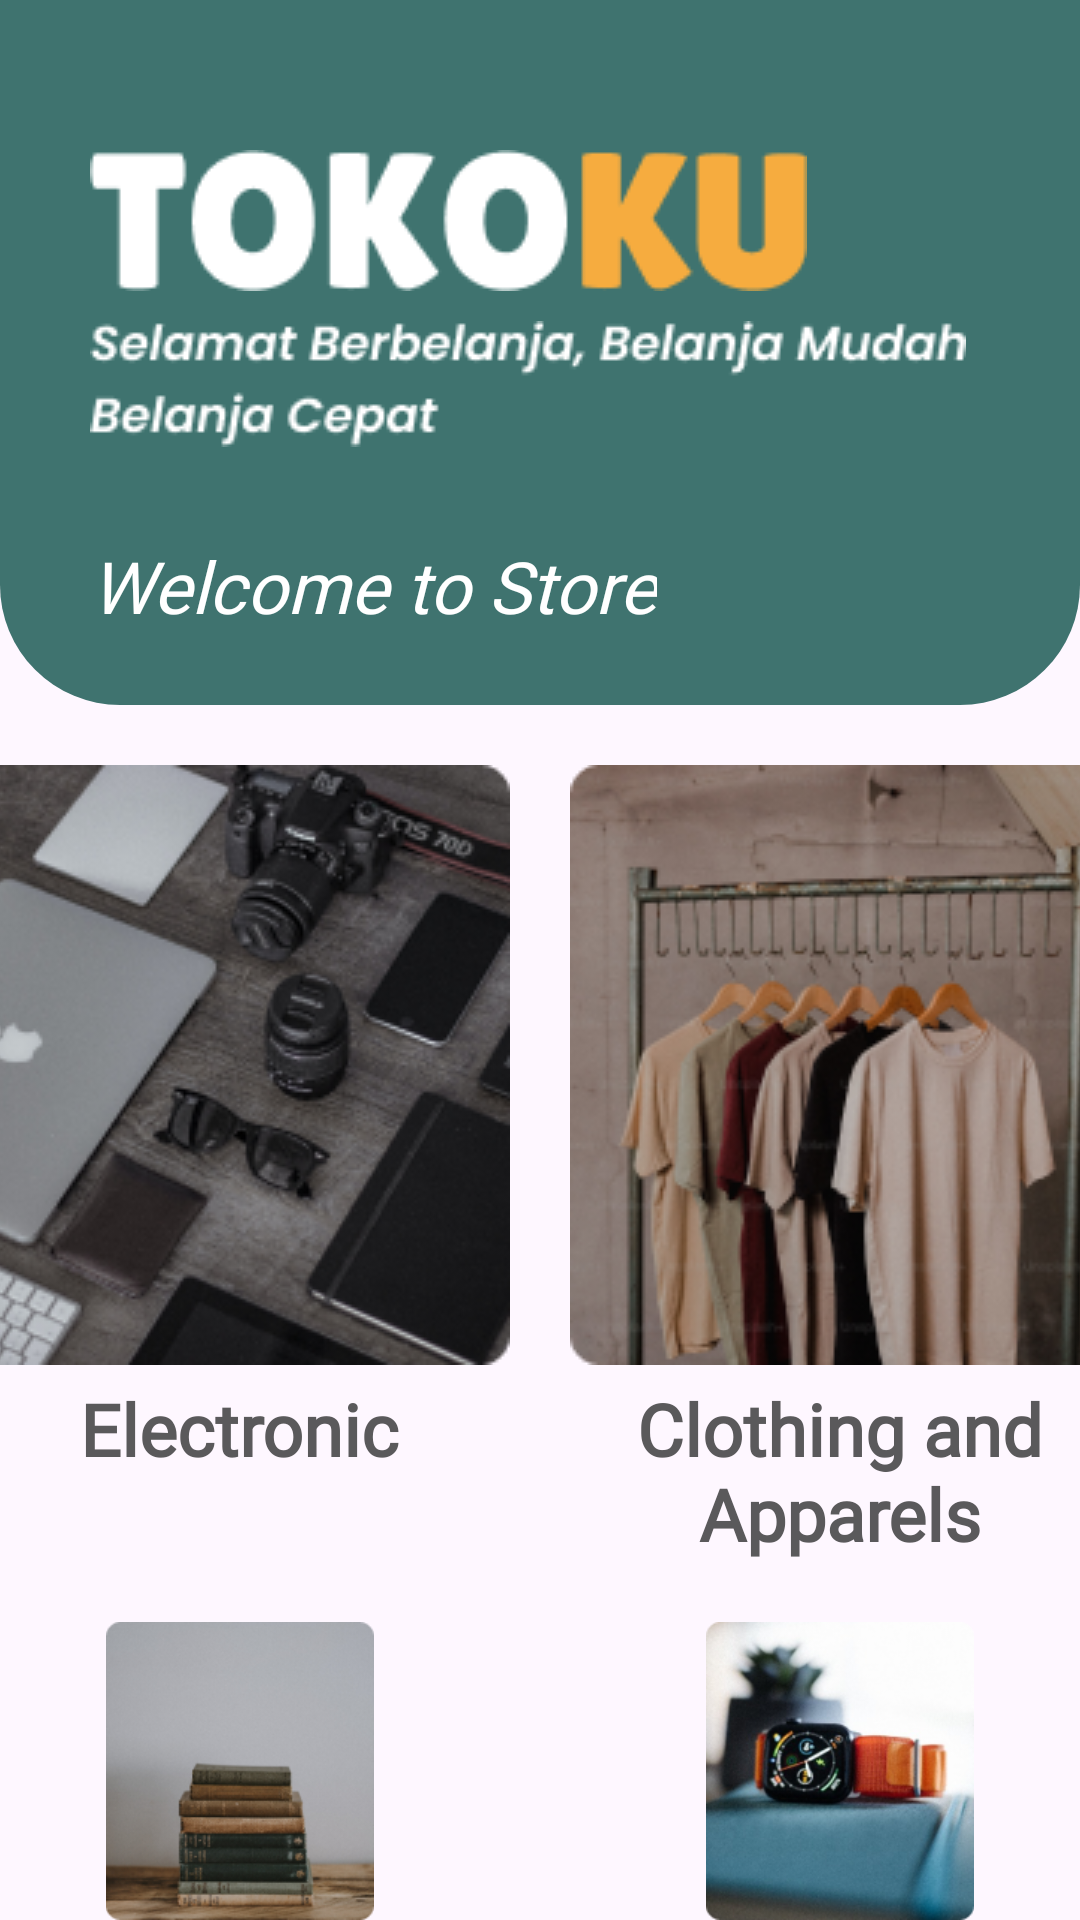

Where icons sit on this 1080 × 1920 app screen, as (x1, y1, x2, y2):
book: (106, 1622, 374, 1920)
smartwatch: (706, 1622, 974, 1920)
